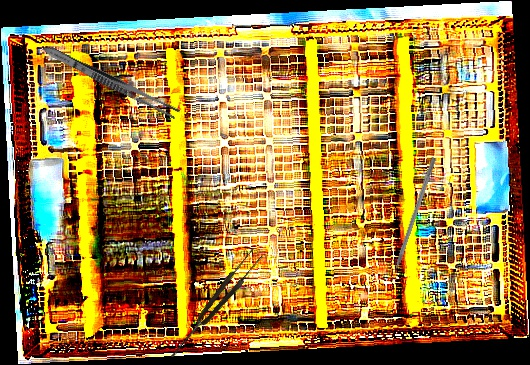Dressing Forceps: (40, 42, 182, 121)
Hook Surgical: (387, 156, 437, 284)
Tissue Forceps: (164, 247, 265, 362)
